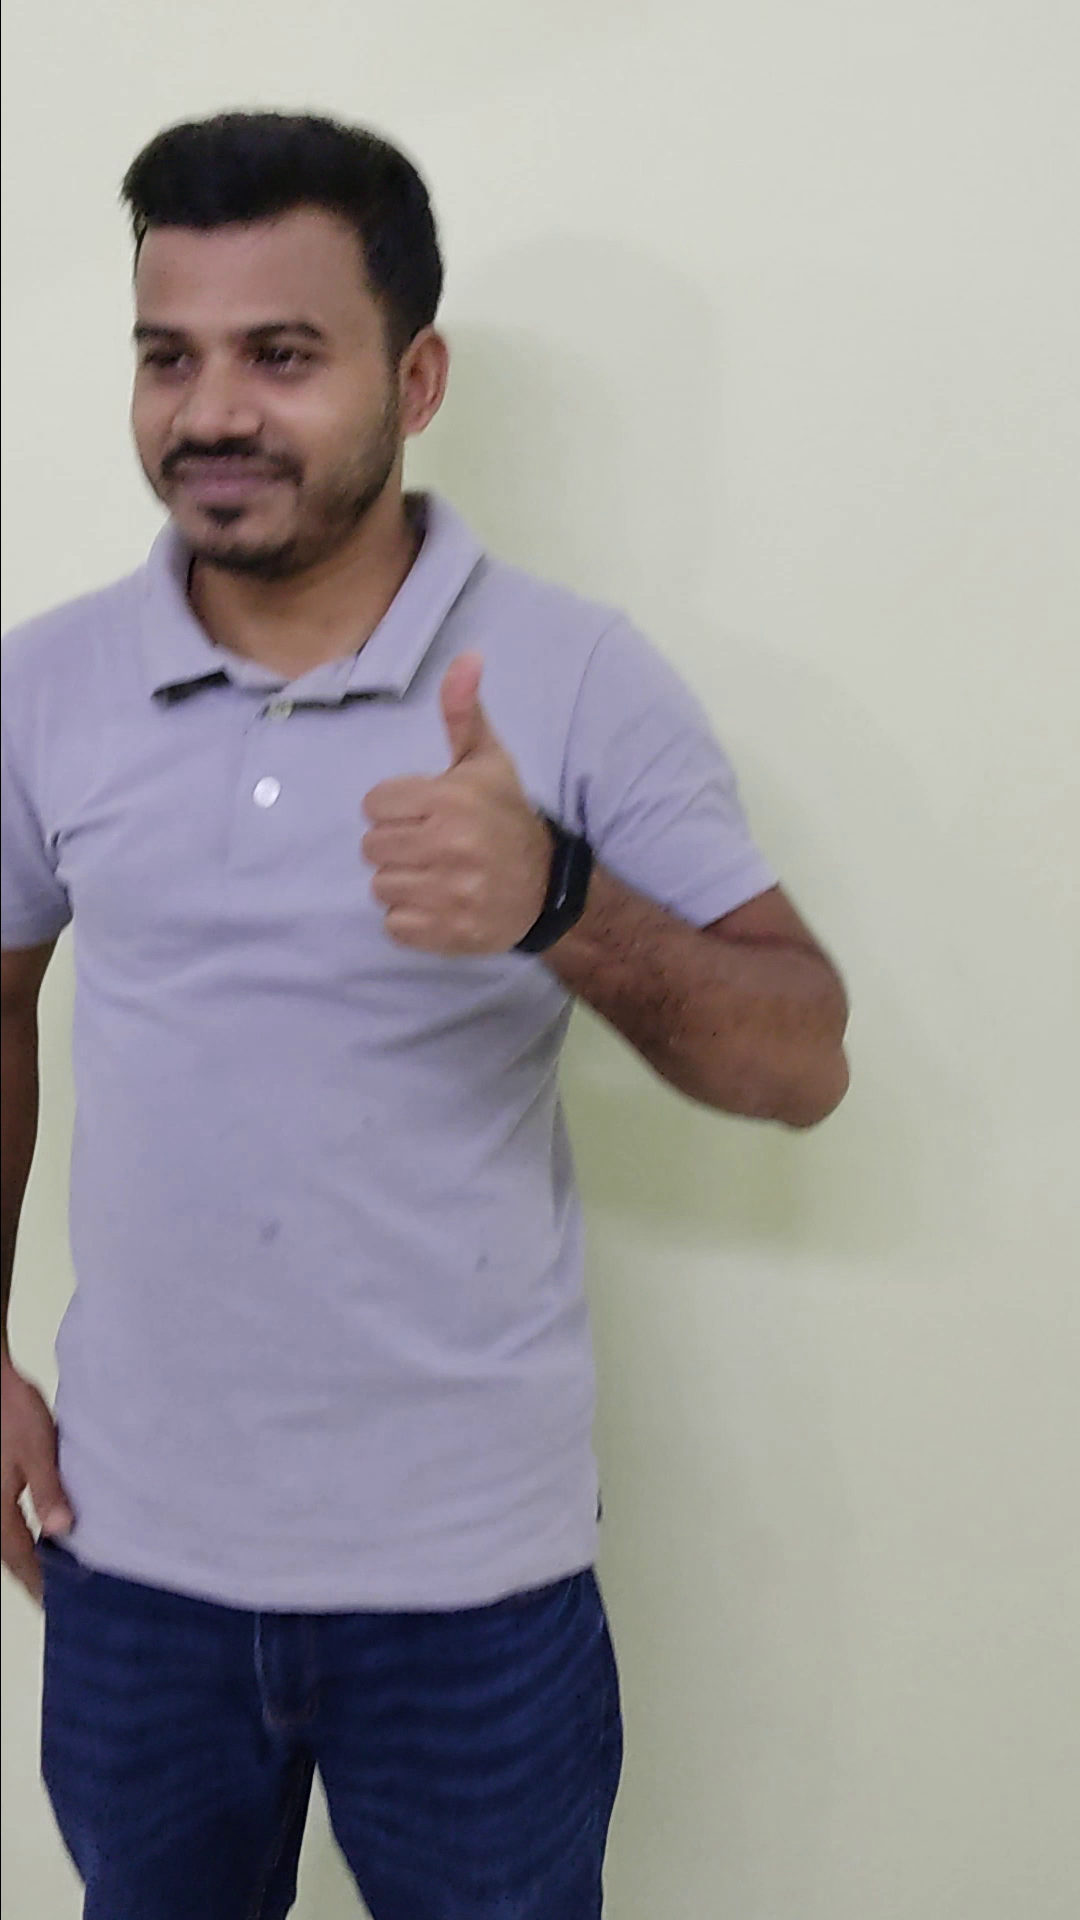Like: (351, 645, 588, 982)
None: (4, 1354, 91, 1633)
